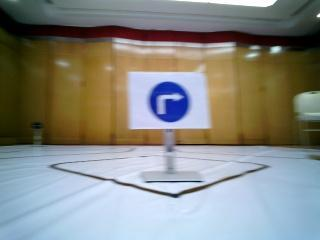right: (136, 77, 213, 126)
